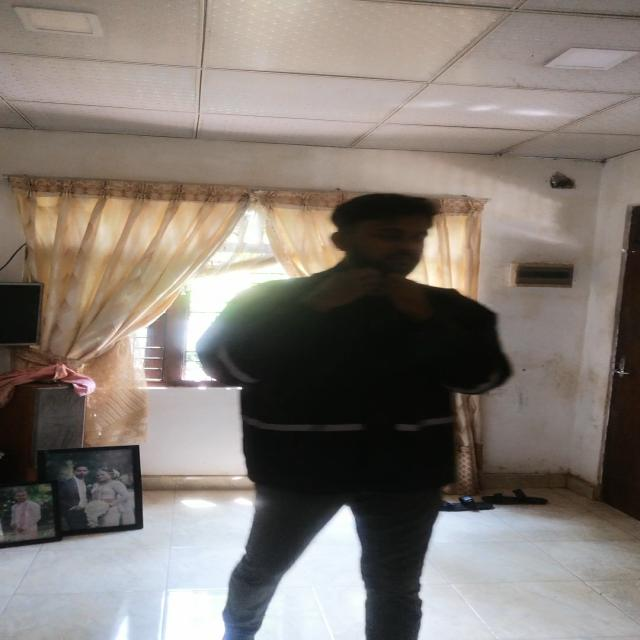Jacket_Wearer: (192, 273, 512, 506)
Person: (202, 192, 504, 640)
